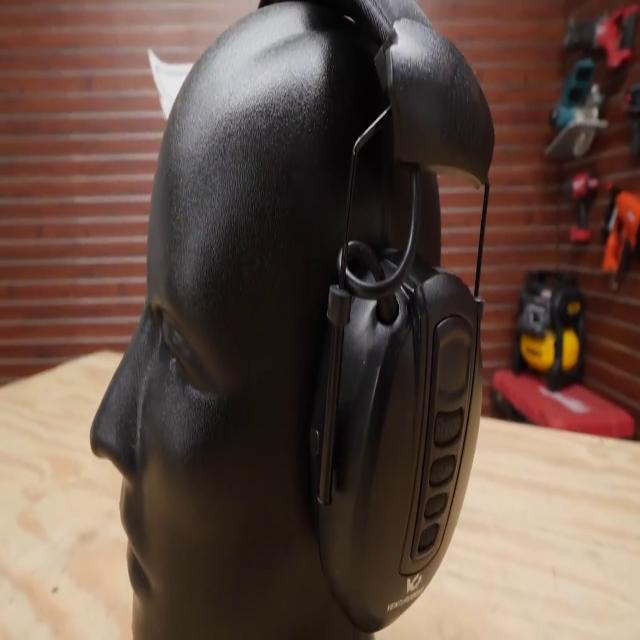earmuff: (300, 229, 490, 640)
